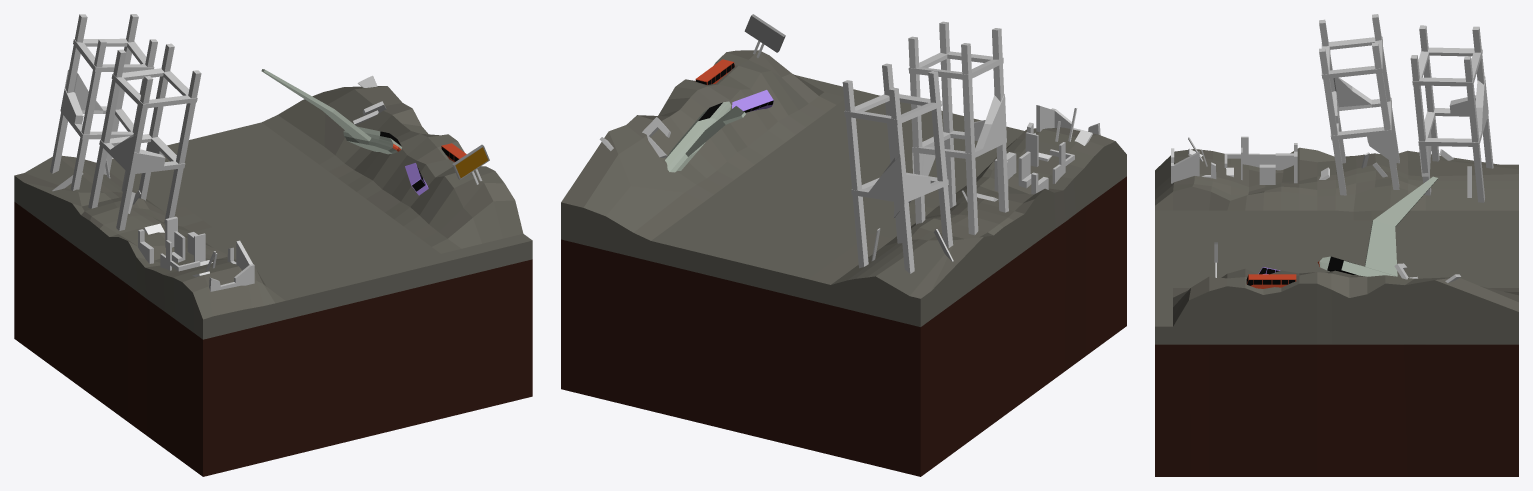
The model's file is lvl3.fbx.
3 renders of one model, left to right at view 1: azimuth 30°, elevation 25°; view 2: azimuth 150°, elevation 25°; view 3: azimuth 270°, elevation 25°, orthographic. The views are drawn at different scales.
Parts seen in each view (by area): view 1: lvl3, Cube.003, Cube.016, Cube.013; view 2: lvl3, Cube.003, Cube.016, Cube.013, Cube.015; view 3: lvl3, Cube.003, Cube.016, Cube.014.
Boxes of the visible parts, x1,y1,x2,y2 form: lvl3: (14, 86, 532, 476); Cube.003: (50, 14, 386, 291); Cube.016: (261, 69, 401, 154); Cube.013: (452, 144, 489, 179); lvl3: (561, 50, 1126, 476); Cube.003: (599, 21, 1100, 273); Cube.016: (665, 101, 745, 172); Cube.013: (744, 14, 785, 52); Cube.015: (732, 90, 773, 112); lvl3: (1155, 147, 1518, 476); Cube.003: (1171, 14, 1493, 282); Cube.016: (1317, 176, 1437, 276); Cube.014: (1246, 274, 1296, 288).
Size of the model in its own units: 4163 by 4032 by 4125.
